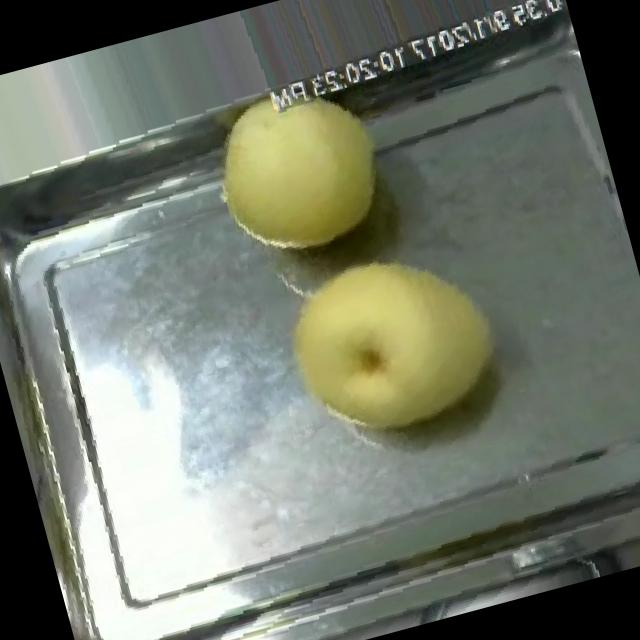Fruit: (262, 222, 526, 464), (190, 62, 408, 276)
